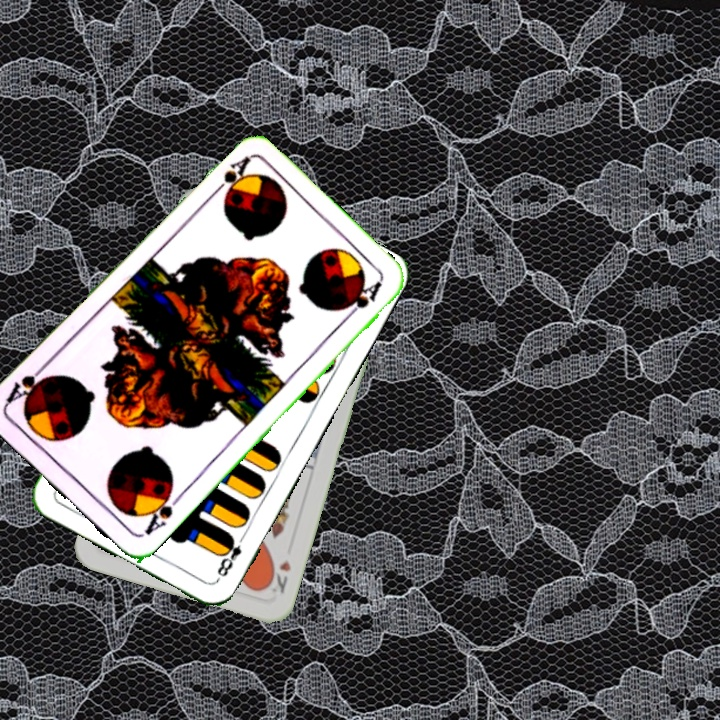E8: (212, 529, 248, 583)
HK: (261, 556, 294, 596)
SA: (140, 483, 185, 538), (206, 152, 254, 200)
